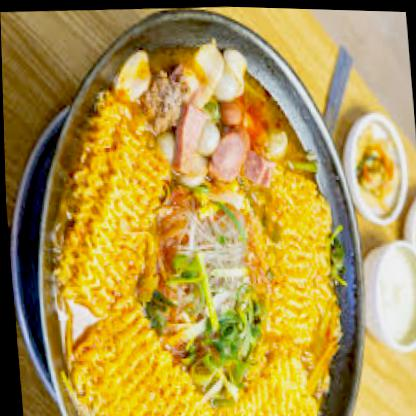budaejjigae: (32, 22, 365, 415)
